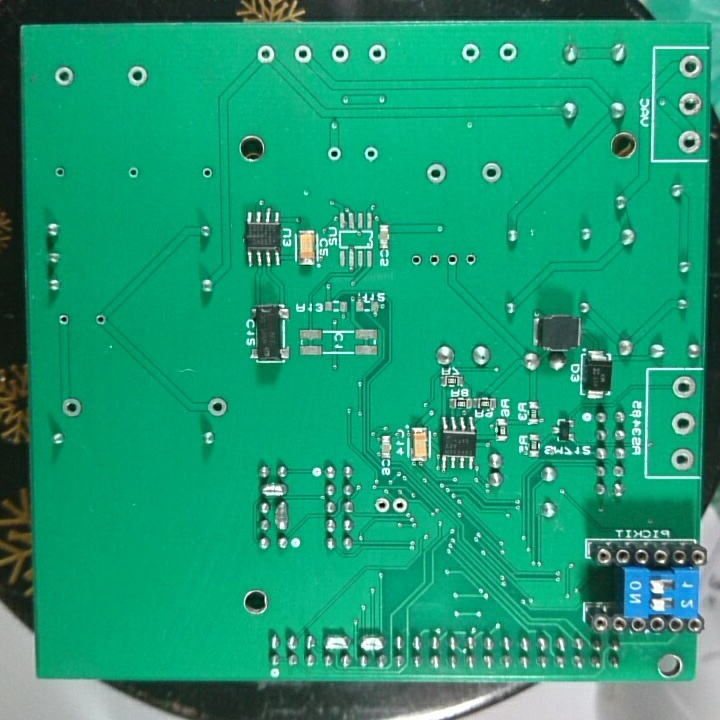F: (674, 129, 706, 157), (677, 53, 705, 83), (668, 446, 696, 473), (670, 409, 697, 437), (669, 374, 697, 401), (123, 63, 151, 90), (677, 91, 704, 118), (57, 395, 85, 420), (204, 394, 230, 420), (496, 40, 522, 65), (52, 63, 77, 89), (478, 159, 503, 185), (424, 160, 448, 186), (459, 40, 483, 65), (365, 41, 388, 67), (292, 42, 314, 68), (329, 42, 350, 68), (255, 44, 279, 66), (390, 495, 410, 518), (360, 143, 381, 164), (461, 248, 479, 272), (442, 249, 462, 270), (91, 309, 110, 330), (54, 309, 73, 329), (373, 495, 392, 515), (199, 163, 217, 183), (325, 143, 342, 164), (425, 249, 442, 270), (408, 250, 426, 269), (51, 163, 68, 180), (124, 163, 140, 181)
P: (320, 629, 356, 655), (355, 629, 389, 655), (273, 497, 292, 533), (257, 482, 291, 499)
